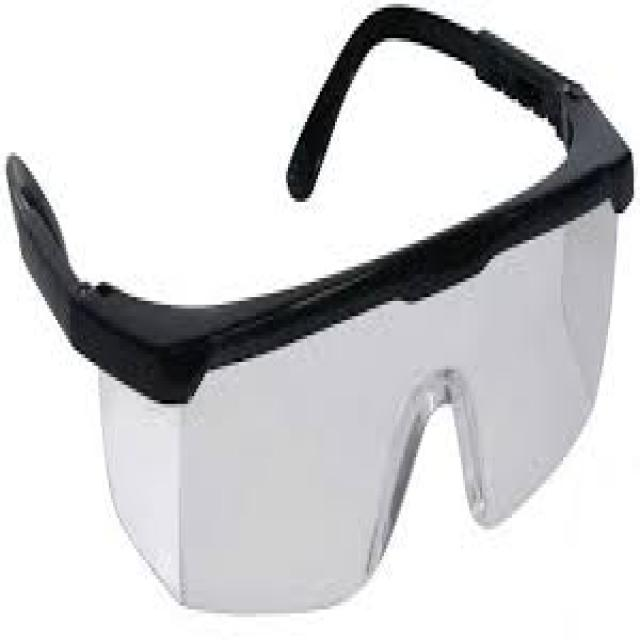oculos-epi: (9, 8, 631, 610)
